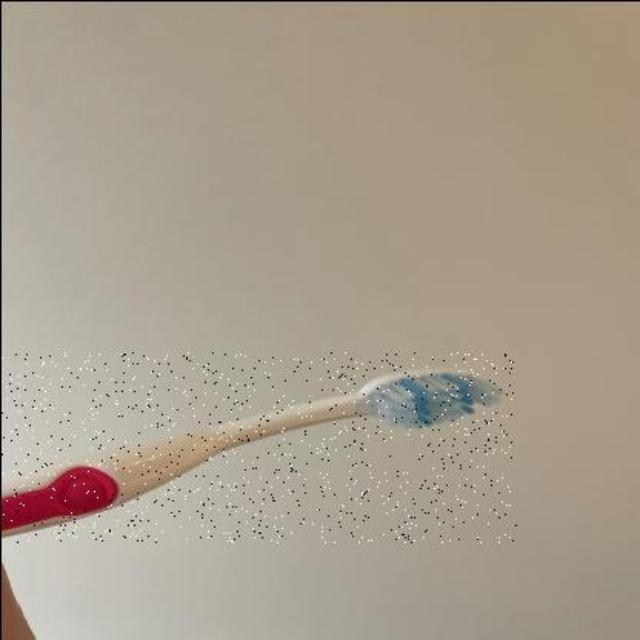toothbrush: (1, 351, 516, 541)
